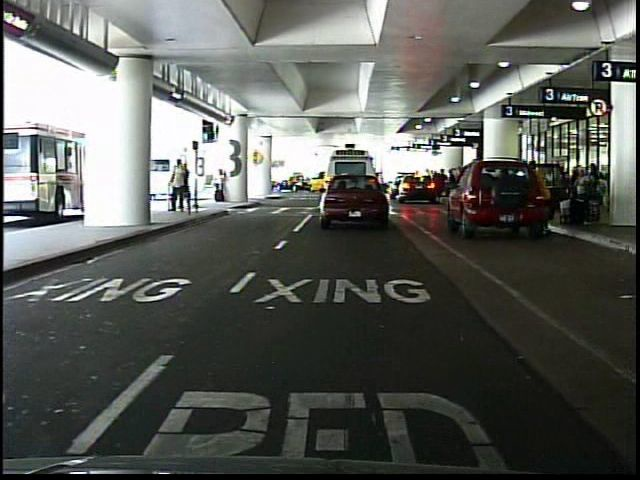person: (529, 158, 558, 231), (167, 157, 186, 214), (214, 166, 233, 205), (181, 163, 196, 211)
